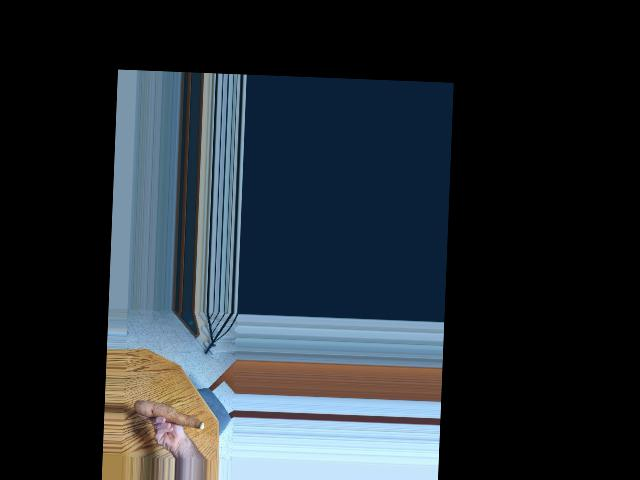sweet_potato: (135, 395, 207, 430)
